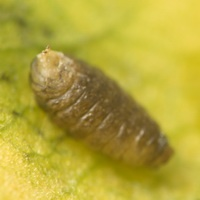insect: (30, 47, 172, 166)
